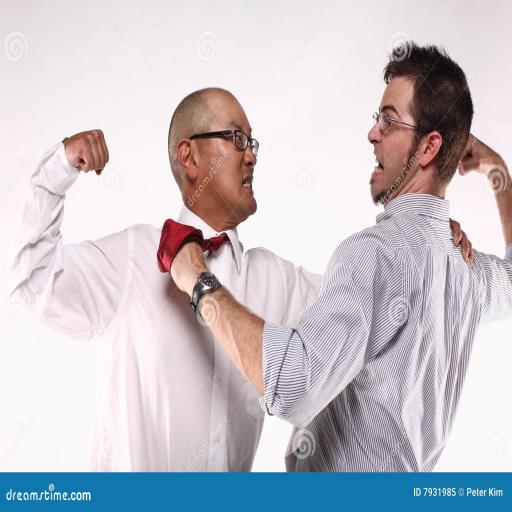fight: (0, 42, 509, 434)
